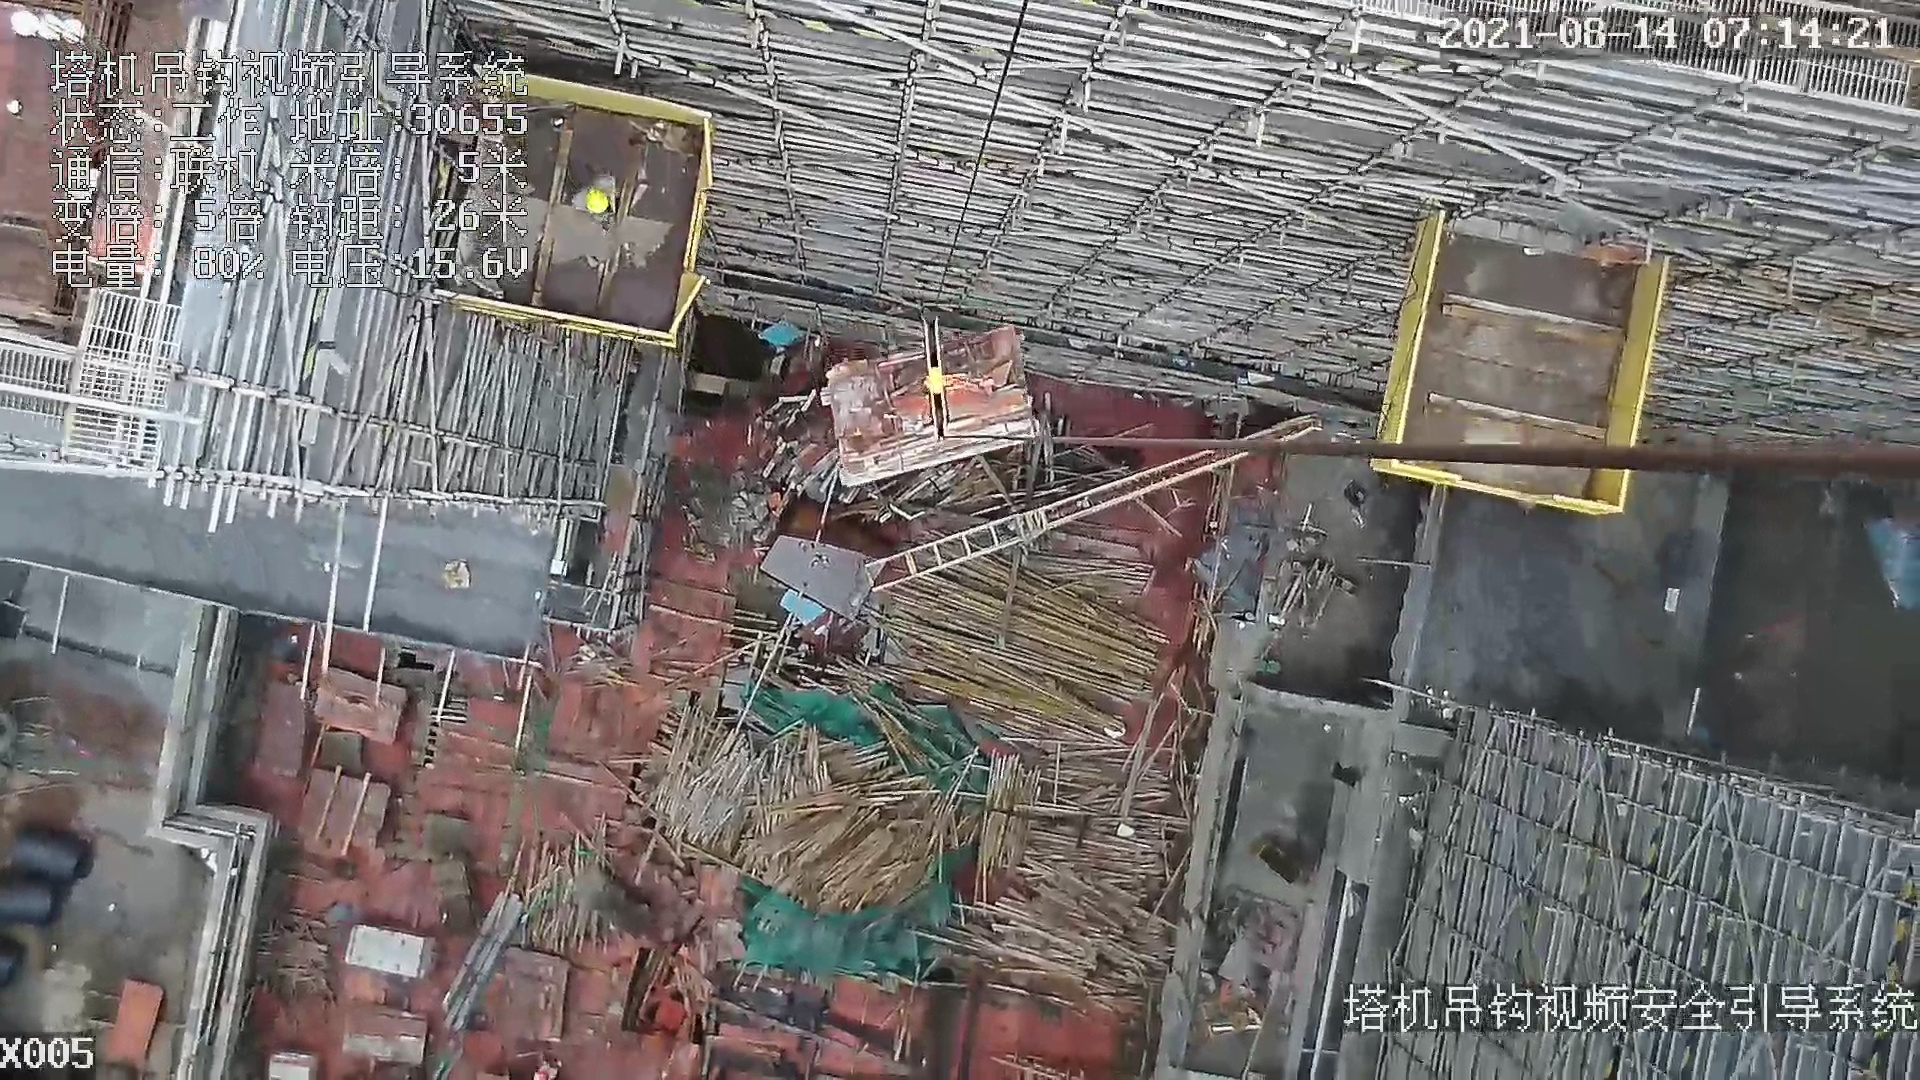helmet: (585, 191, 612, 212)
hook: (909, 312, 963, 440)
person: (574, 178, 628, 215)
